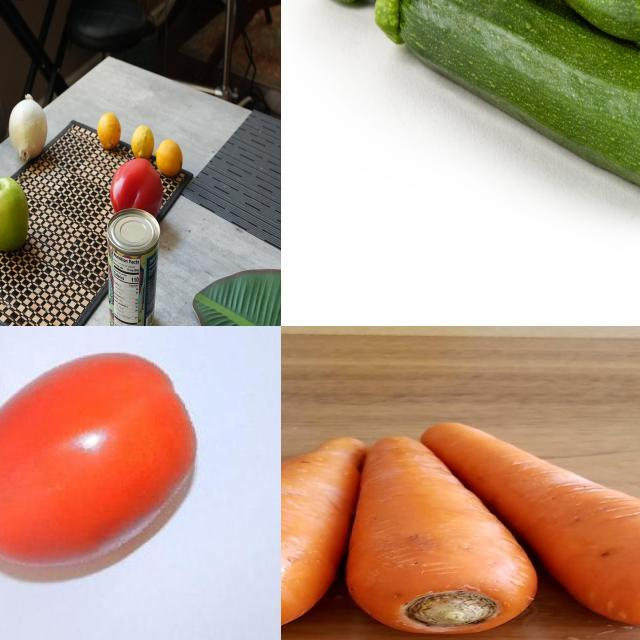bell_pepper: (111, 157, 163, 225)
carrot: (425, 420, 640, 626), (343, 433, 537, 637), (282, 434, 366, 634)
onion: (9, 98, 49, 160)
tomato: (1, 341, 206, 600)
